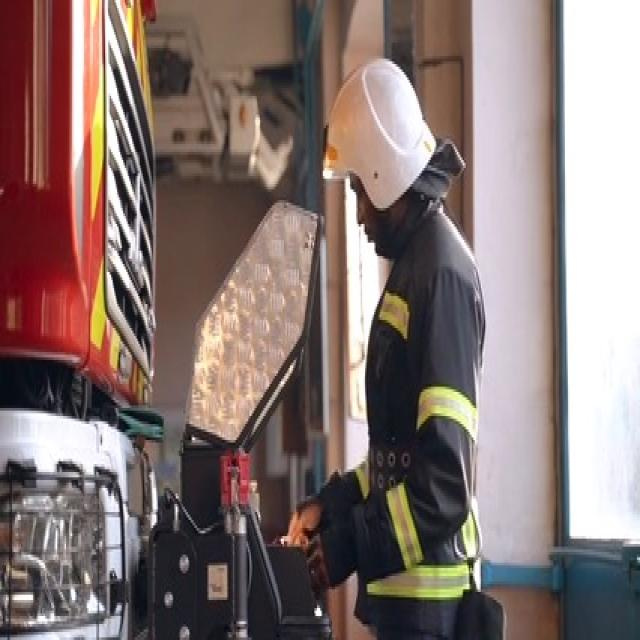Helmet_Wearer: (319, 62, 468, 237)
Jacket_Wearer: (342, 211, 482, 606)
Person: (300, 43, 481, 640)
